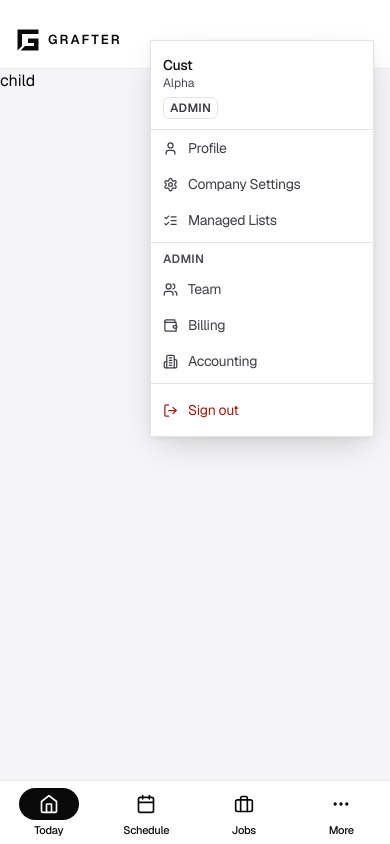
Test: M45 to M48 UI gates › G04-G09 customer admin sees 0 AI links after avatar and More open
The image size is (390, 844).
Earlier steps of the test are not shown.
Click the button "More".
click(341, 812)  # box [292, 781, 389, 843]
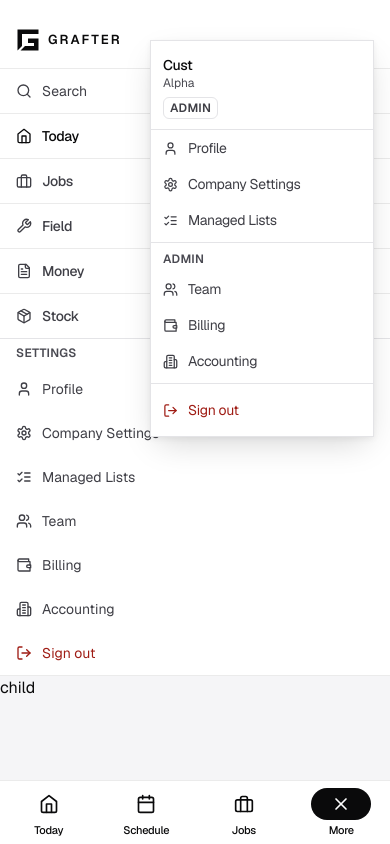
Check: the element with class "shell-phone-menu" is shown
